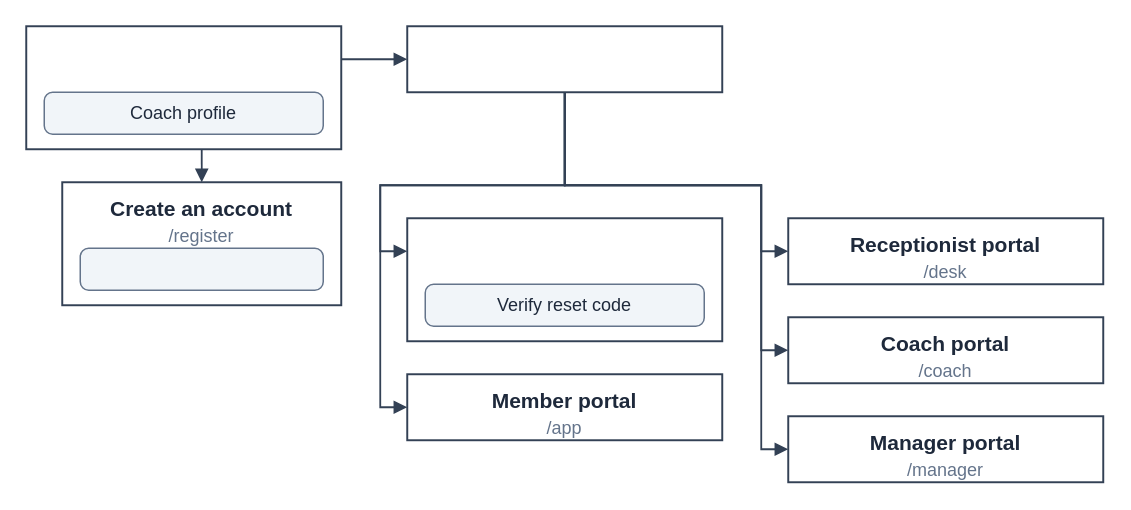
This 1131x510 diagram has some shape labels left out. The shapes that lost their labels are listed below. From the top down, each one's box as (x1, y1, x2, y2) in pixels, then its label:
(406, 25, 723, 93): Sign in /login
(25, 25, 342, 150): Landing page /
(79, 247, 323, 290): Verify the emailed code
(406, 217, 723, 342): Forgot password /forgot
